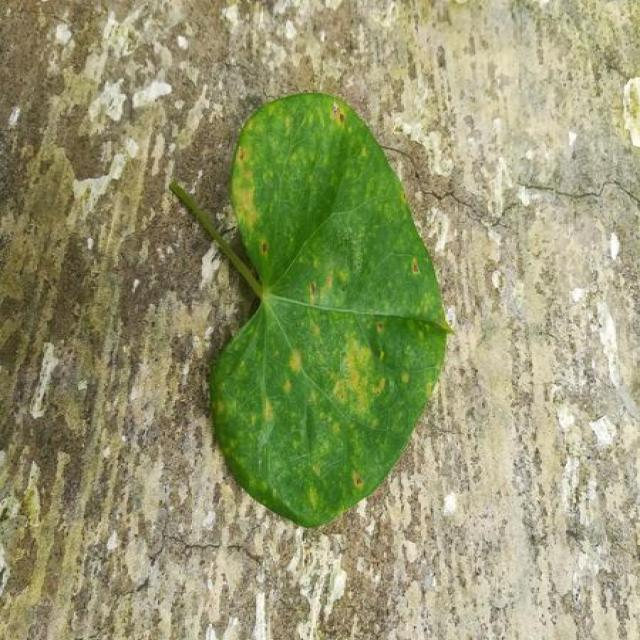Amruthaballi: (170, 92, 450, 526)
disease in leaf: (170, 92, 442, 526)
